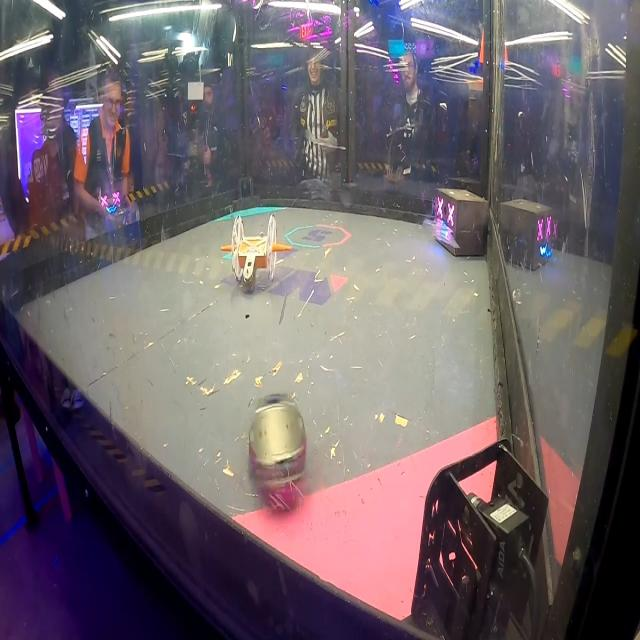brick: (433, 181, 490, 255)
